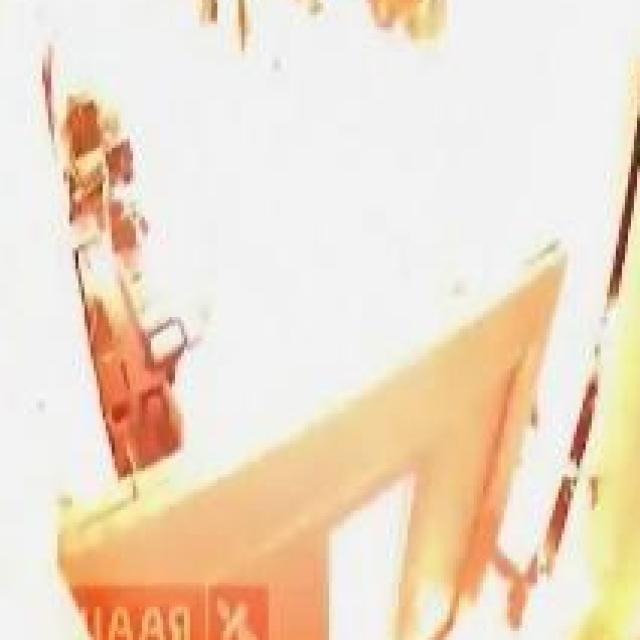smoke: (30, 0, 640, 483)
